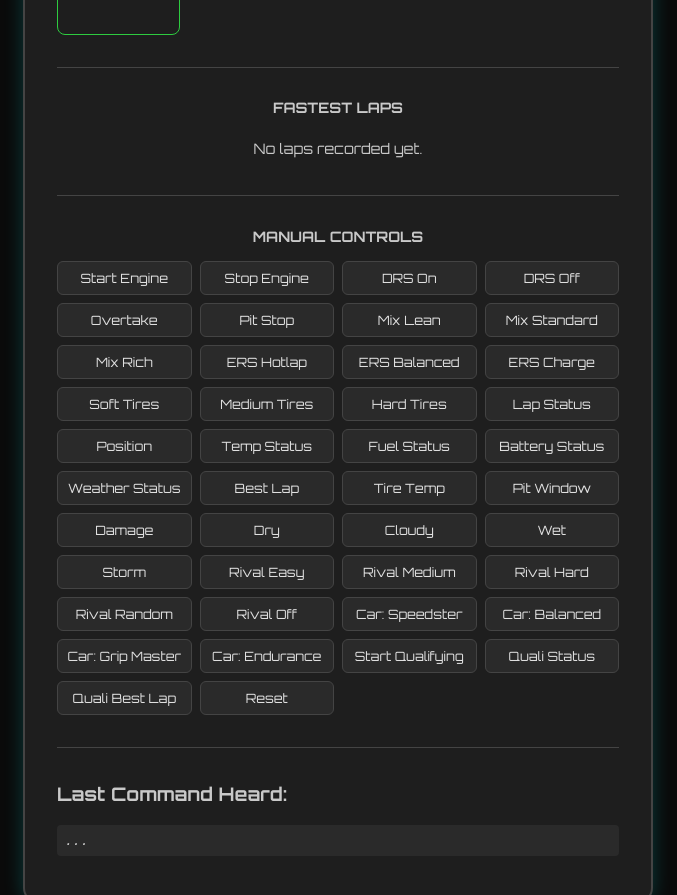
Scenario: RaceControl.vue › race standings › announces position via the manual Position button
(page scrolled)
What coordinates should you click on to do the following:
click the button with class "ctrl-button" showing "Position"
I would click on:
 (124, 446)
Its box is x1=57 y1=429 x2=192 y2=463.
(page scrolled)
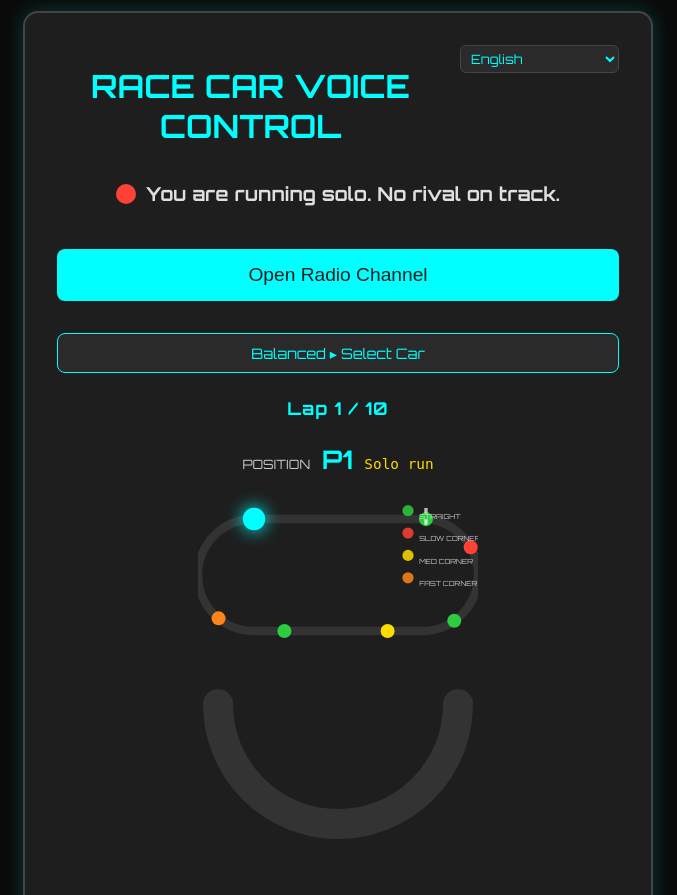
Expected: the message with class "status-text" shows "solo", x1=146 y1=182 x2=560 y2=206
